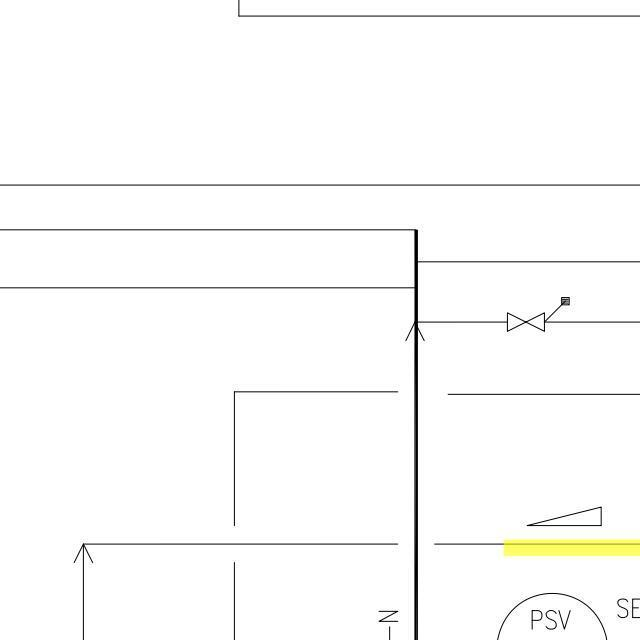GV: (505, 306, 548, 335)
